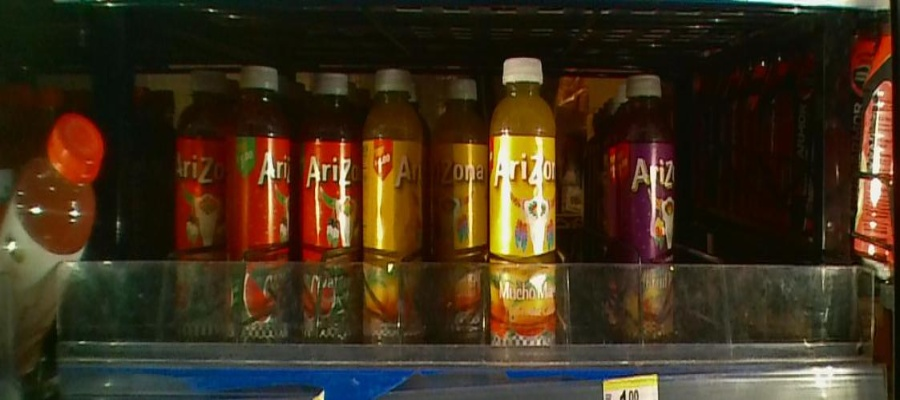bottle: (491, 55, 558, 358), (611, 65, 679, 354), (223, 63, 293, 339), (426, 78, 490, 352), (297, 63, 357, 355), (363, 65, 423, 346), (170, 70, 220, 348)
